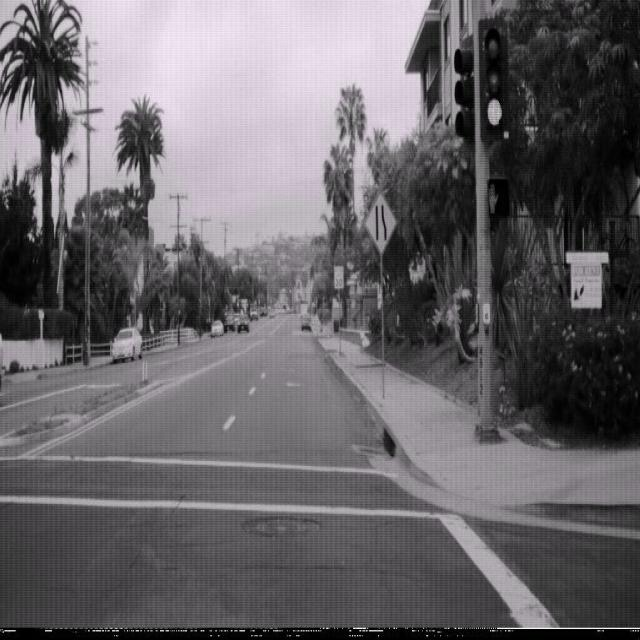speedLimit30: (333, 265, 344, 289)
